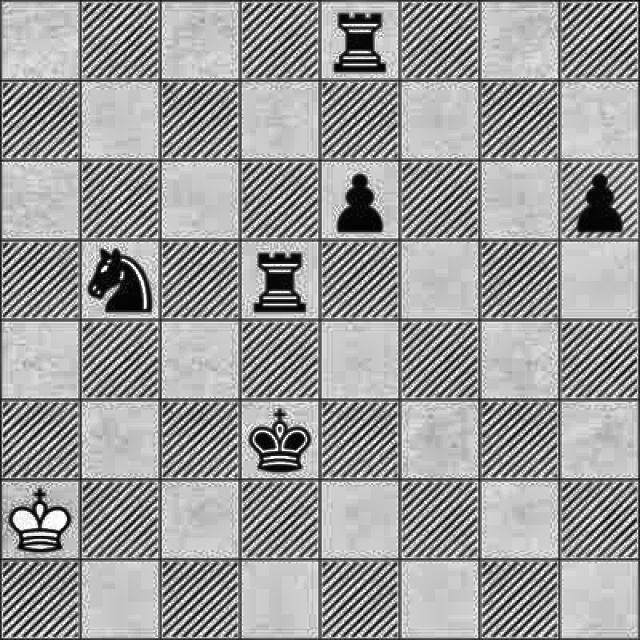Black Knight: (84, 246, 154, 319)
black king: (242, 407, 315, 479)
black pawn: (327, 168, 395, 238), (571, 165, 629, 238)
black rook: (245, 248, 312, 316), (326, 5, 389, 75)
white king: (2, 485, 74, 560)
